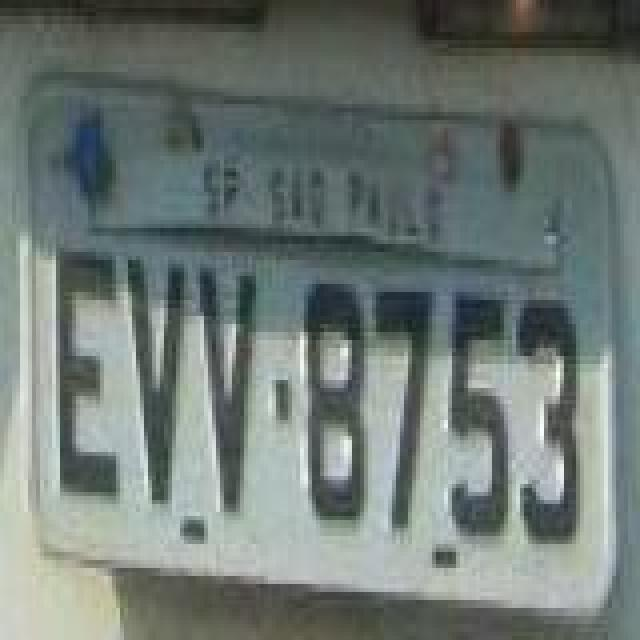3: (514, 298, 582, 550)
5: (448, 290, 512, 542)
7: (372, 286, 436, 530)
8: (304, 274, 368, 526)
E: (56, 242, 120, 502)
V: (126, 254, 186, 506), (194, 266, 254, 518)
